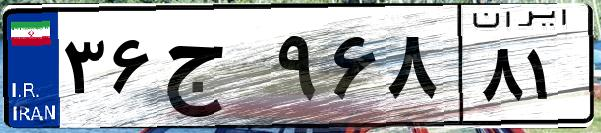1: (525, 38, 570, 115)
3: (57, 26, 110, 100)
6: (330, 28, 385, 110), (110, 28, 158, 98)
8: (385, 28, 445, 110), (475, 38, 525, 113)
9: (270, 28, 330, 110)
ج: (158, 20, 270, 120)
